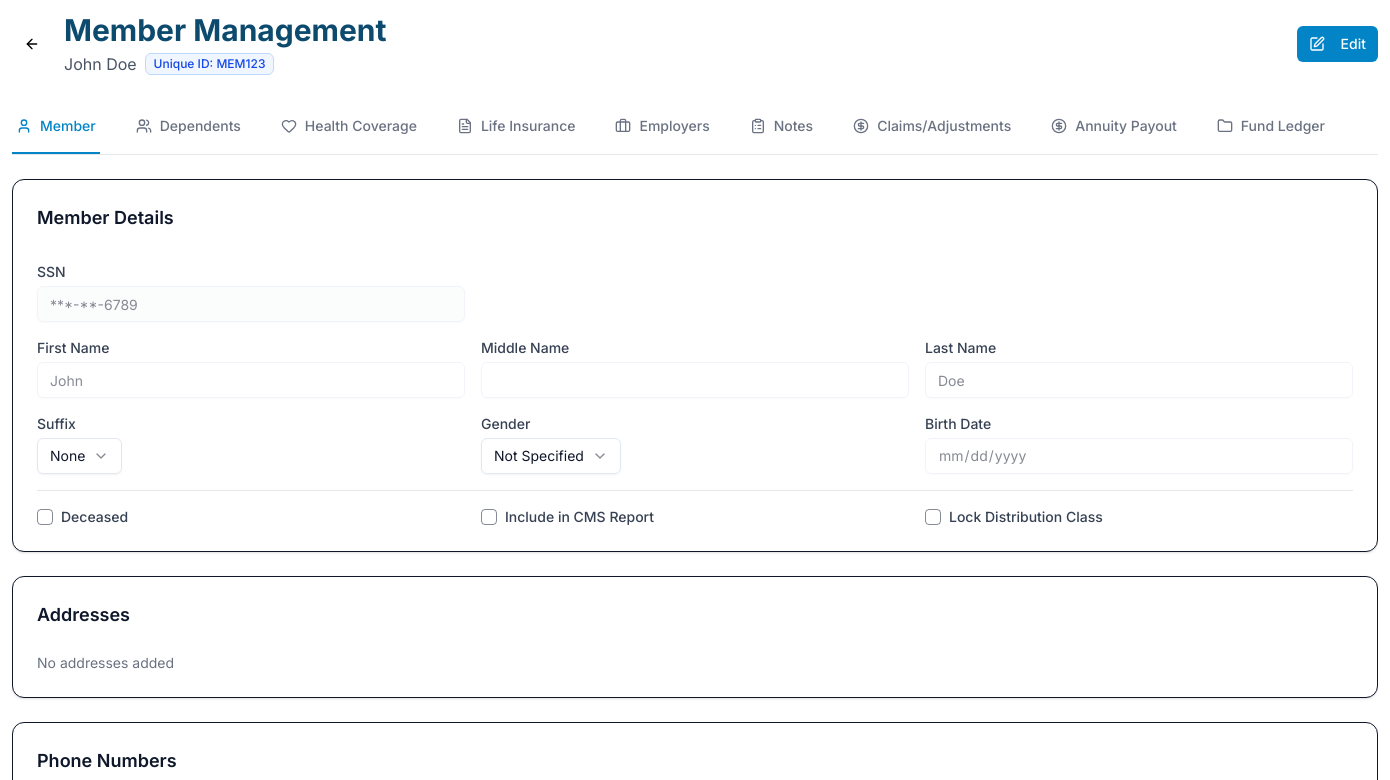
Claims/Adjustments Tab › should show fund options for manual adjustment
This screenshot has width=1390, height=780.
Expected: the text "John Doe" is shown, x1=64 y1=52 x2=137 y2=76
// Click on Claims/Adjustments tab
Click the button "Claims/Adjustments" at {"x": 932, "y": 127}, box x1=849 y1=100 x2=1015 y2=154
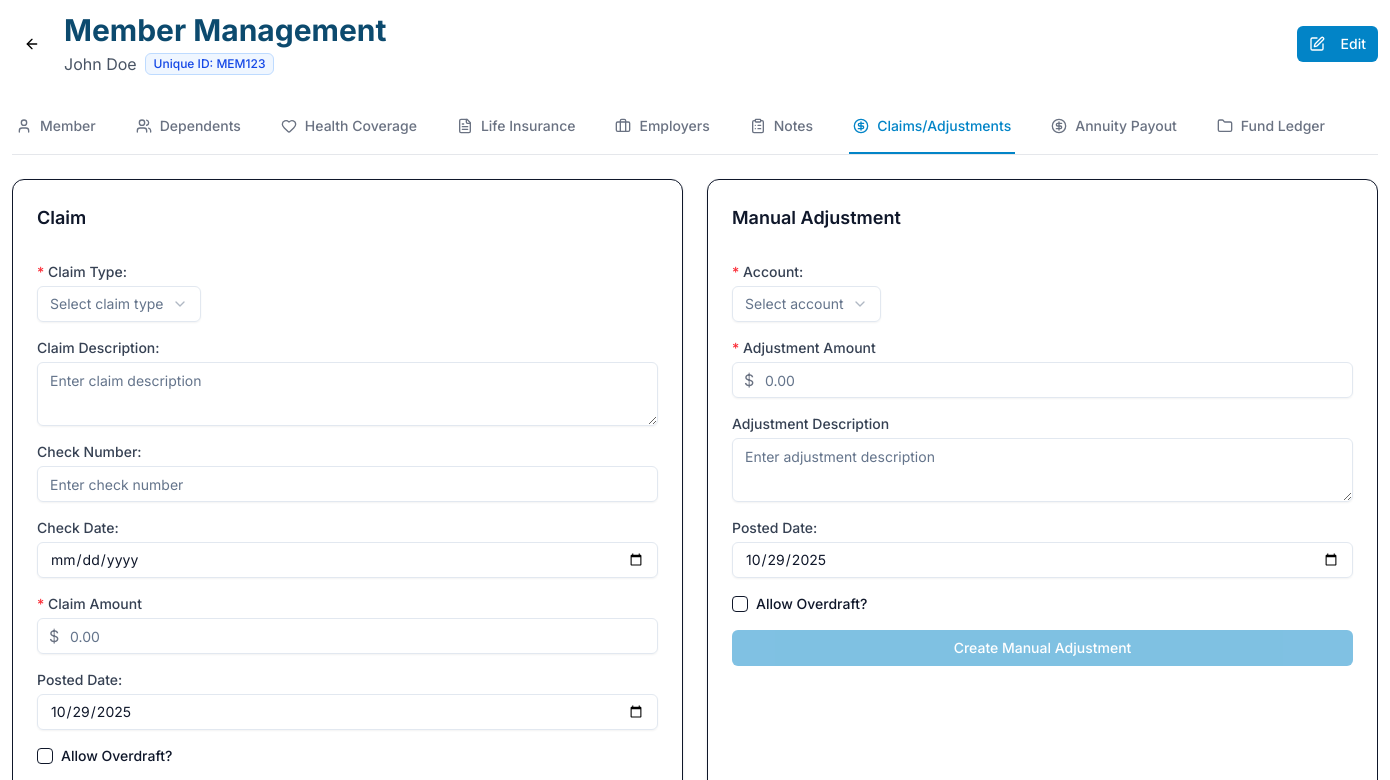
Expected: the text "Manual Adjustment" is shown, x1=732 y1=207 x2=901 y2=228
// Click on fund dropdown
Click the dropdown "Select account" at {"x": 806, "y": 304}, box x1=732 y1=286 x2=881 y2=322
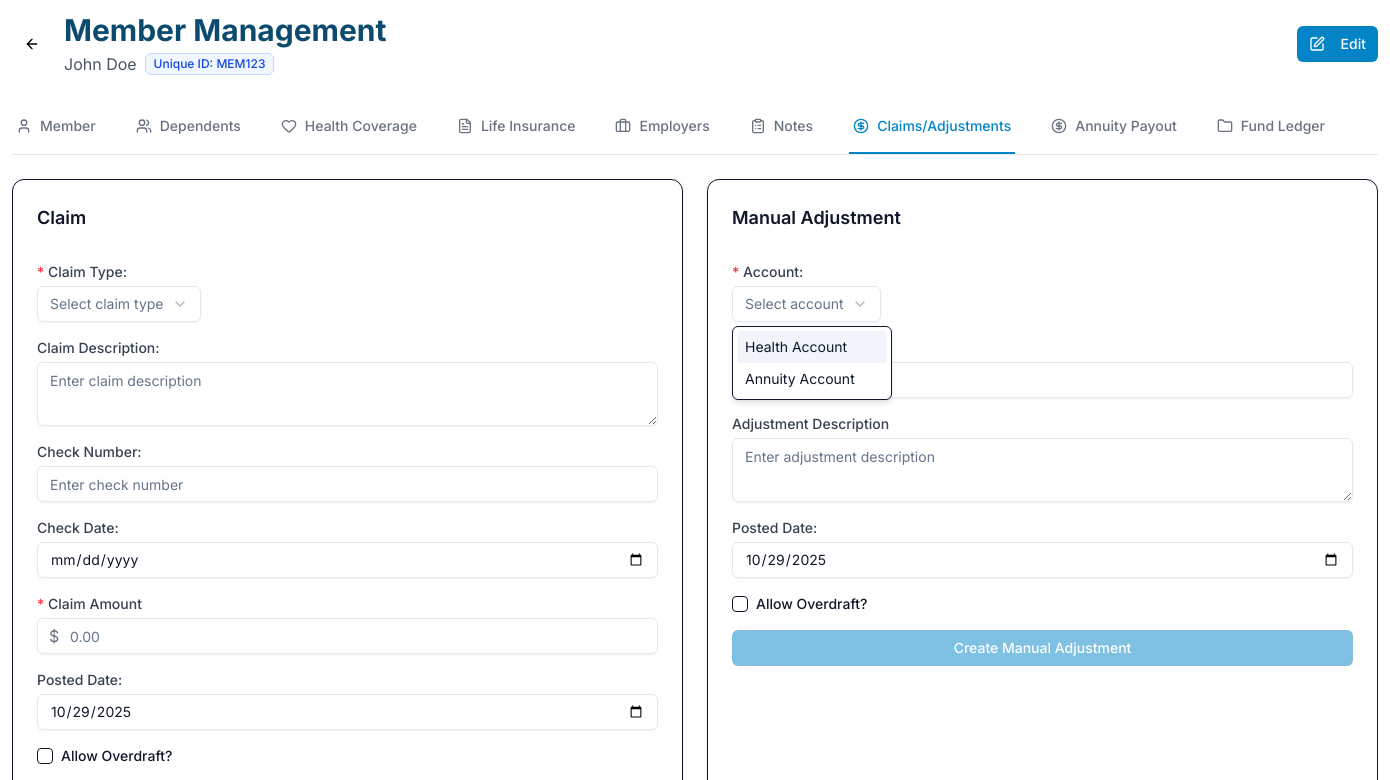
Expected: the text "Health Account" is shown, x1=745 y1=337 x2=847 y2=357
Expected: the text "Annuity Account" is shown, x1=745 y1=369 x2=855 y2=389
